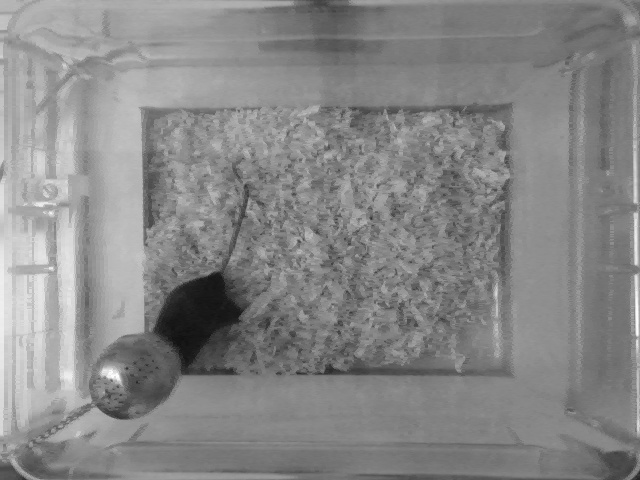mice: (146, 164, 252, 370)
